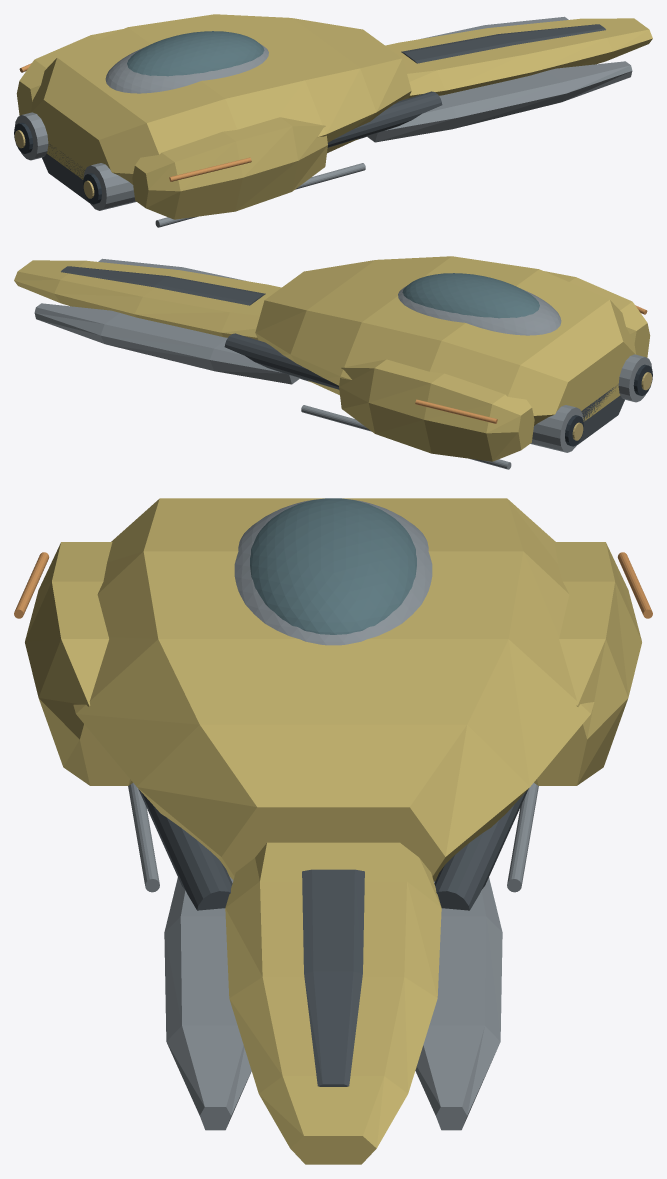
Rendered from scud_gold_off.glb.
3 renders of one model, top to bottom at view 1: azimuth 30°, elevation 25°; view 2: azimuth 150°, elevation 25°; view 3: azimuth 270°, elevation 25°, orthographic. The views are drawn at different scales.
Visible parts, largest first — view 1: rear_core_0, rear_side_body_5, forward_body_2, forward_side_fin_7, canopy_glass_4, front_inset_14, canopy_rim_3, rear_engine_housing_9, connecting_arm_8, lower_keel_1, underside_ski_12, rear_engine_face_10 (+2 smaller); view 2: rear_core_0, rear_side_body_5, forward_body_2, forward_side_fin_7, canopy_glass_4, front_inset_14, canopy_rim_3, rear_engine_housing_9, connecting_arm_8, lower_keel_1, underside_ski_12, rear_engine_face_10 (+2 smaller); view 3: rear_core_0, forward_body_2, rear_side_body_5, forward_side_fin_7, canopy_glass_4, front_inset_14, connecting_arm_8, canopy_rim_3, underside_ski_12, side_light_6.
Part boxes in pixels (x1,y1,x2,y2): rear_core_0: (31, 14, 411, 184); rear_side_body_5: (16, 29, 327, 219); forward_body_2: (385, 18, 652, 97); forward_side_fin_7: (366, 16, 632, 142); canopy_glass_4: (127, 31, 264, 76); front_inset_14: (401, 24, 605, 63); canopy_rim_3: (105, 44, 268, 93); rear_engine_housing_9: (14, 112, 136, 210); connecting_arm_8: (327, 91, 442, 147); lower_keel_1: (42, 136, 366, 202); underside_ski_12: (155, 163, 365, 227); rear_engine_face_10: (14, 122, 101, 204); rear_core_0: (255, 256, 635, 425); rear_side_body_5: (339, 271, 650, 461); forward_body_2: (14, 260, 281, 339); forward_side_fin_7: (34, 258, 300, 384); canopy_glass_4: (402, 273, 539, 318); front_inset_14: (61, 266, 265, 305); canopy_rim_3: (398, 286, 561, 335); rear_engine_housing_9: (530, 354, 652, 452); connecting_arm_8: (224, 333, 339, 389); lower_keel_1: (300, 378, 624, 444); underside_ski_12: (301, 405, 511, 469); rear_engine_face_10: (565, 364, 652, 446); rear_core_0: (73, 498, 594, 881); forward_body_2: (225, 842, 441, 1164); rear_side_body_5: (25, 542, 641, 785); forward_side_fin_7: (164, 876, 502, 1130); canopy_glass_4: (250, 498, 416, 634); front_inset_14: (302, 869, 364, 1086); connecting_arm_8: (138, 789, 528, 910); canopy_rim_3: (234, 499, 432, 645); underside_ski_12: (128, 783, 538, 892); side_light_6: (14, 552, 652, 618).
Bounding box in the file's own units: 6.7 × 1.37 × 3.25.
